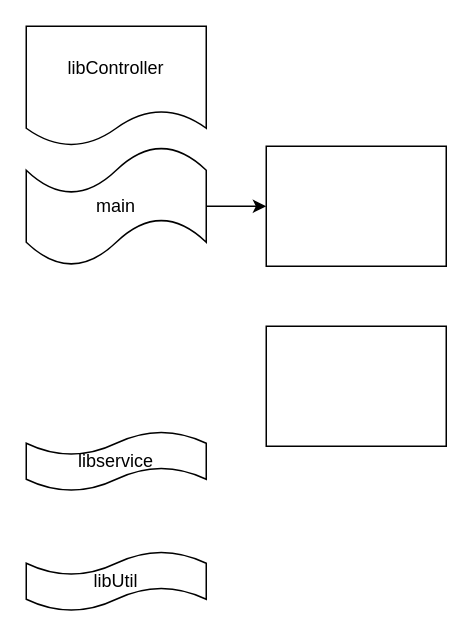
Some shapes in this 473 by 638 pixel diagram are drawn without their labels. Each missing label, with the centre of its shape:
home: the point at 355,385
start: the point at 355,205
